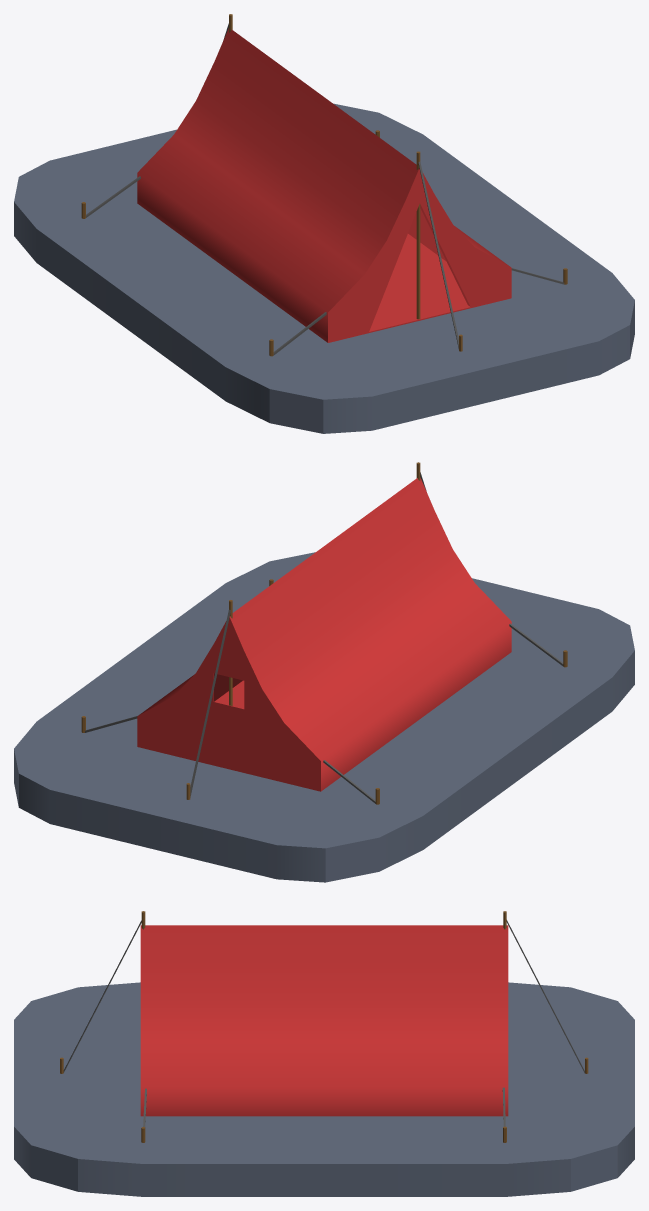
Rendered from Tent_Red.fbx.
The picture shows the model from 3 angles, top to bottom: view 1: azimuth 30°, elevation 25°; view 2: azimuth 150°, elevation 25°; view 3: azimuth 270°, elevation 25°; orthographic projection. The views are drawn at different scales.
Parts seen in each view (by area): view 1: Tent; view 2: Tent; view 3: Tent.
Boxes of the visible parts, <box> form: Tent: <box>14,14,634,433</box>; Tent: <box>14,462,634,882</box>; Tent: <box>14,911,634,1196</box>.
Size of the model in its own units: 10.53 by 5.24 by 15.2.
